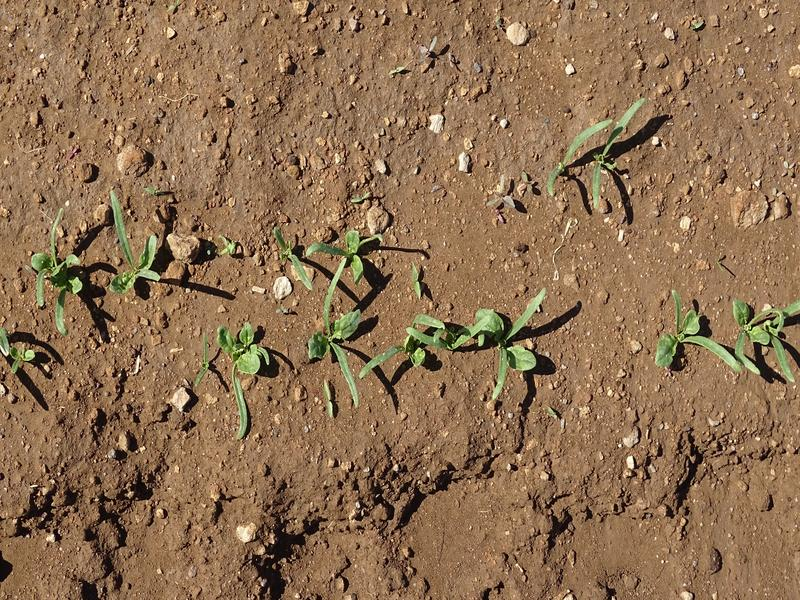Espinaca: (214, 294, 574, 414), (13, 196, 164, 309), (666, 280, 793, 384), (540, 101, 631, 206), (276, 220, 379, 280)
